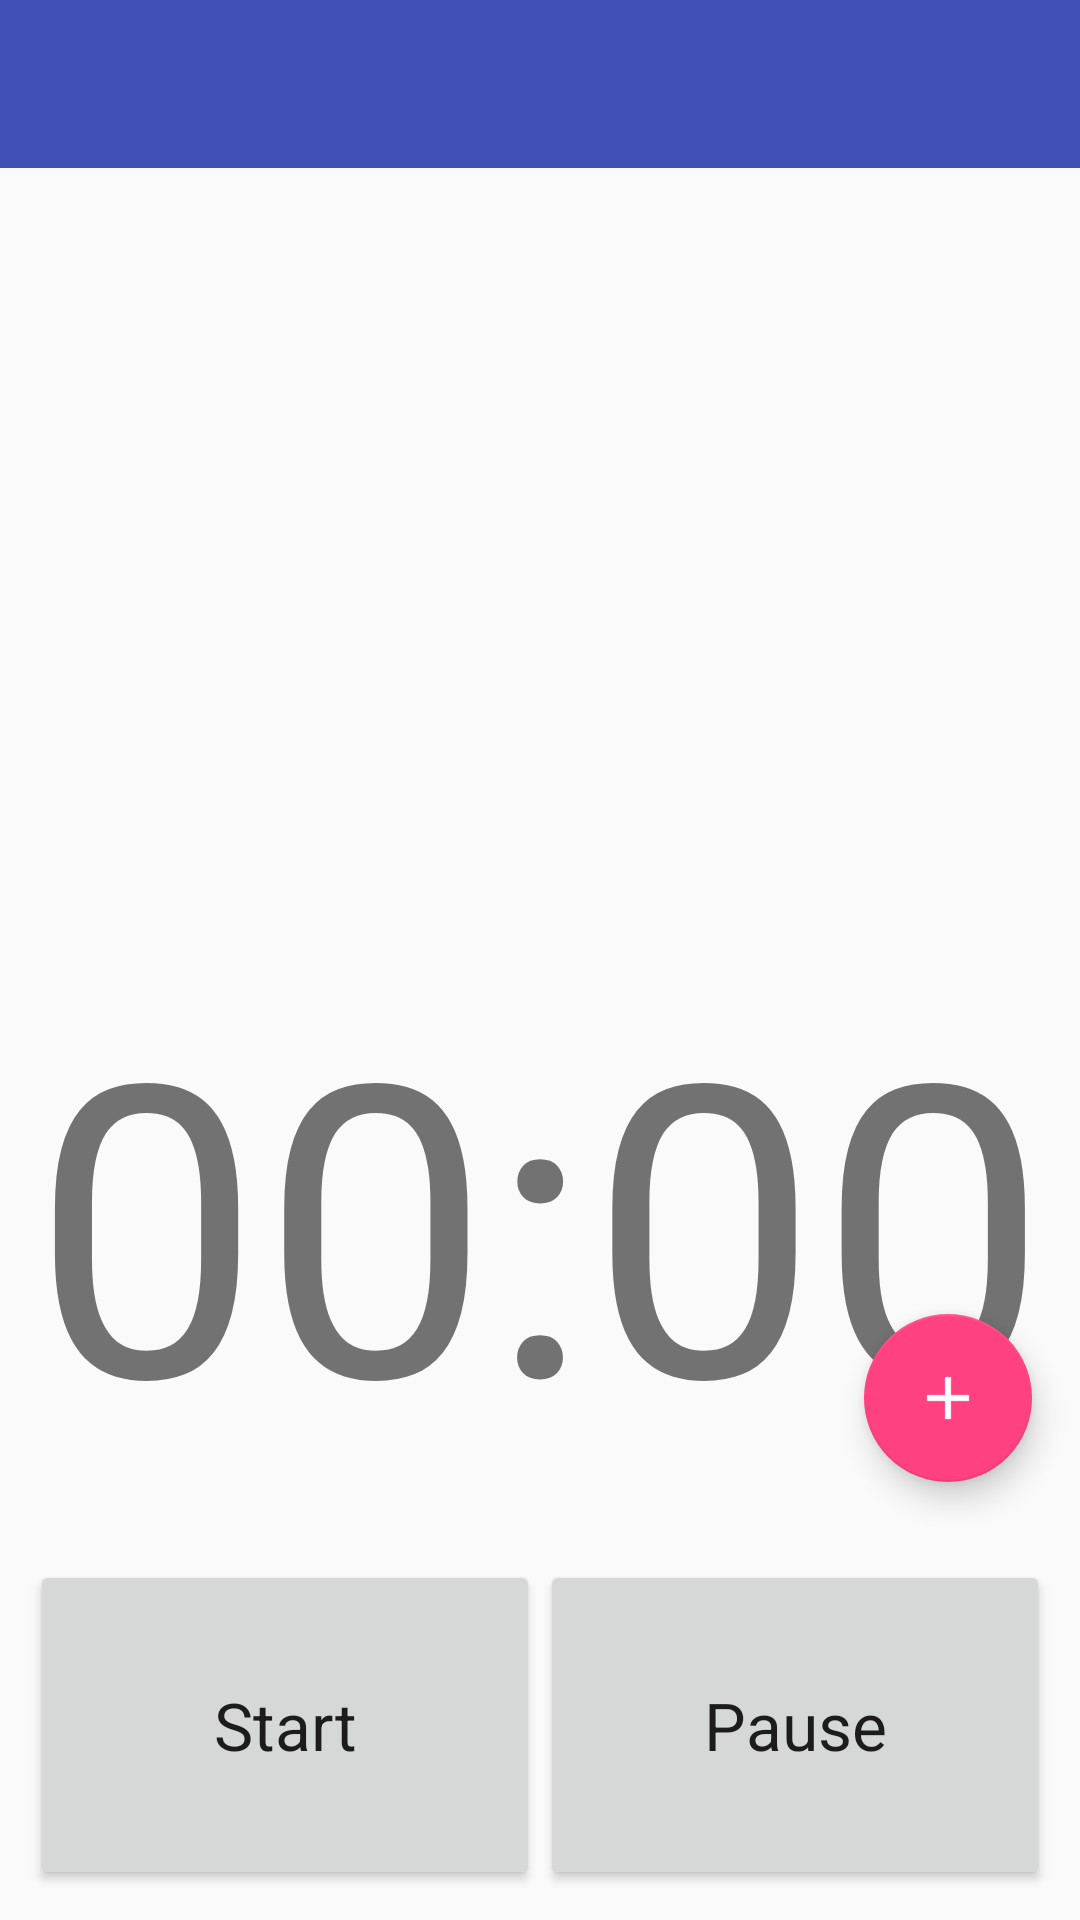

Locate icon controls on the screen. Image size 1080px x 1920px, boxes as (x1, y1, x2, y2).
add: (864, 1314, 1032, 1482)
